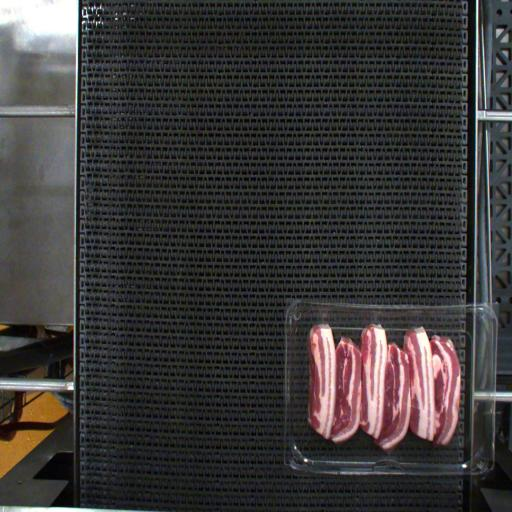packaging-error: (318, 308, 328, 328)
